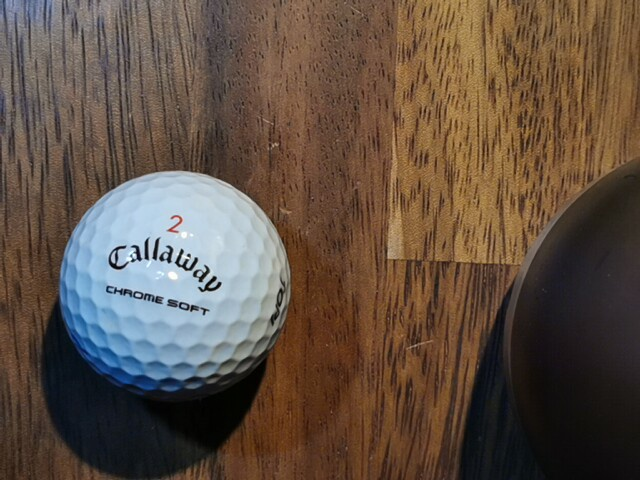Ball: (59, 169, 291, 403)
Callaway: (108, 237, 222, 292)
